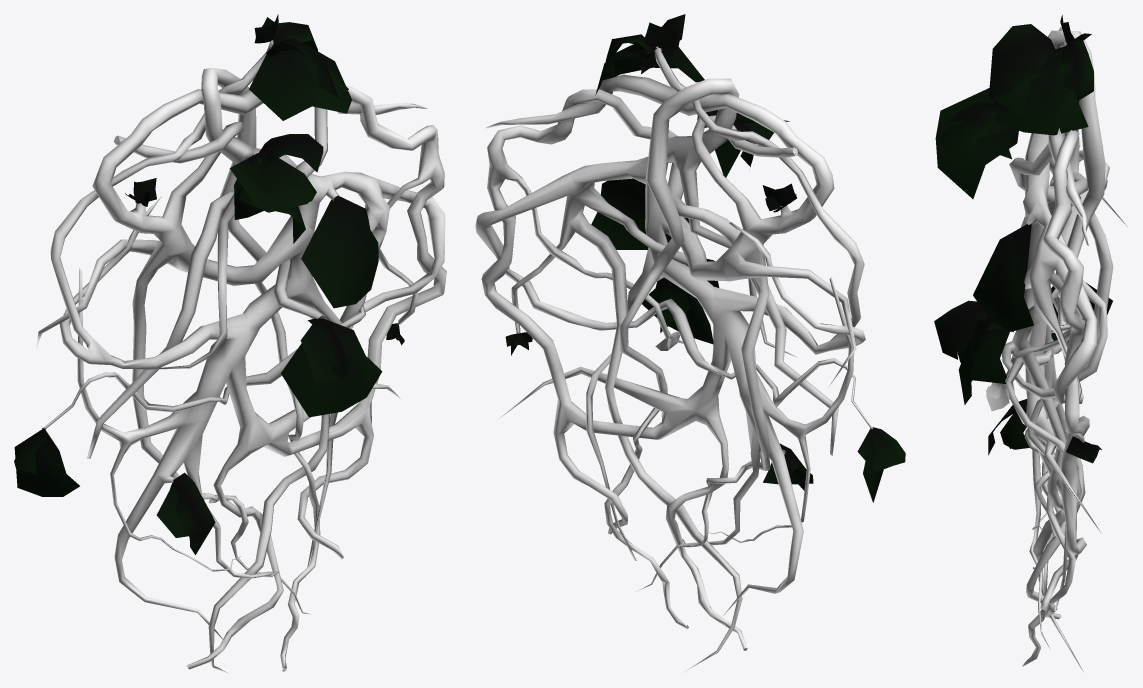
The model's file is Nature_Shield_afsTREE_LOD2.fbx.
3 renders of one model, left to right at view 1: azimuth 30°, elevation 25°; view 2: azimuth 150°, elevation 25°; view 3: azimuth 270°, elevation 25°, orthographic. The views are drawn at different scales.
Visible parts, largest first — view 1: trunk_xw00_xt00, branch01.013_xw02_xt05_xp07, branch01.018_xp03, branch01.011, branch01.021_xp05, branch01.009, branch01.023_xp04, branch01.010_xp05, branch01.008_xp07, branch01.020_xp10, branch01.005_xp09, branch01.019 (+5 smaller); view 2: trunk_xw00_xt00, branch01.013_xw02_xt05_xp07, branch01, branch01.018_xp03, branch01.007_xw16_xp10, branch01.020_xp10, branch01.021_xp05, branch01.004; view 3: trunk_xw00_xt00, branch01.013_xw02_xt05_xp07, branch01.007_xw16_xp10, branch01.010_xp05, branch01.005_xp09, branch01.019, branch01.020_xp10, branch01.006_xw15_xt15, branch01.009, branch01.018_xp03, branch01.011, branch01.008_xp07 (+3 smaller).
Boxes of the visible parts, x1,y1,x2,y2 form: trunk_xw00_xt00: [36, 40, 446, 673]; branch01.013_xw02_xt05_xp07: [301, 196, 378, 308]; branch01.018_xp03: [281, 318, 382, 417]; branch01.011: [249, 43, 348, 120]; branch01.021_xp05: [14, 428, 79, 496]; branch01.009: [238, 150, 316, 212]; branch01.023_xp04: [170, 472, 215, 554]; branch01.010_xp05: [229, 153, 305, 243]; branch01.008_xp07: [258, 134, 323, 172]; branch01.020_xp10: [300, 318, 337, 382]; branch01.005_xp09: [266, 39, 340, 99]; branch01.019: [308, 318, 348, 378]; trunk_xw00_xt00: [475, 46, 872, 672]; branch01.013_xw02_xt05_xp07: [591, 178, 688, 249]; branch01: [857, 427, 905, 472]; branch01.018_xp03: [642, 277, 713, 344]; branch01.007_xw16_xp10: [595, 44, 677, 95]; branch01.020_xp10: [660, 279, 719, 332]; branch01.021_xp05: [863, 427, 883, 502]; branch01.004: [643, 22, 677, 50]; trunk_xw00_xt00: [1001, 27, 1127, 671]; branch01.013_xw02_xt05_xp07: [973, 224, 1033, 331]; branch01.007_xw16_xp10: [994, 49, 1088, 135]; branch01.010_xp05: [935, 88, 1018, 198]; branch01.005_xp09: [989, 24, 1055, 112]; branch01.019: [934, 300, 1013, 359]; branch01.020_xp10: [957, 329, 1009, 383]; branch01.006_xw15_xt15: [1060, 40, 1093, 100]; branch01.009: [940, 114, 1010, 162]; branch01.018_xp03: [958, 318, 992, 404]; branch01.011: [992, 46, 1065, 118]; branch01.008_xp07: [945, 102, 999, 127].
Size of the model in its own units: 3.05 by 4.39 by 1.15.
